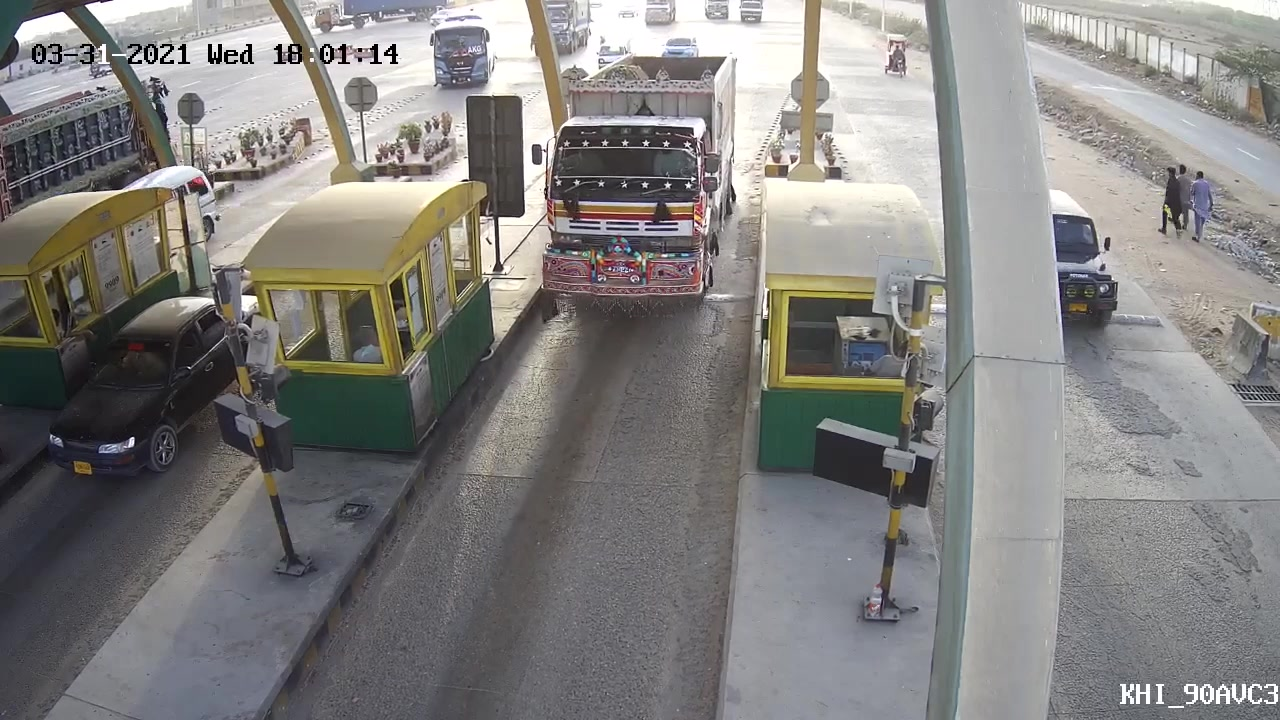F5: (517, 49, 748, 323)
